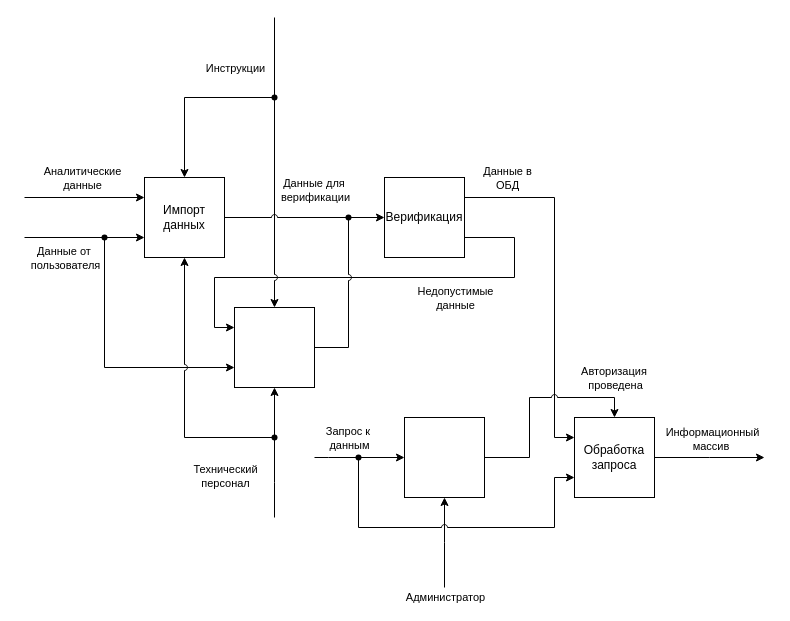
Image size: 790x621. Some labels were removed from this diagram. Here are the shapes that lost their labels. From the top down, the box of each, then its label:
(234, 306, 314, 388): Редактор данных
(404, 416, 484, 498): Авторизация
